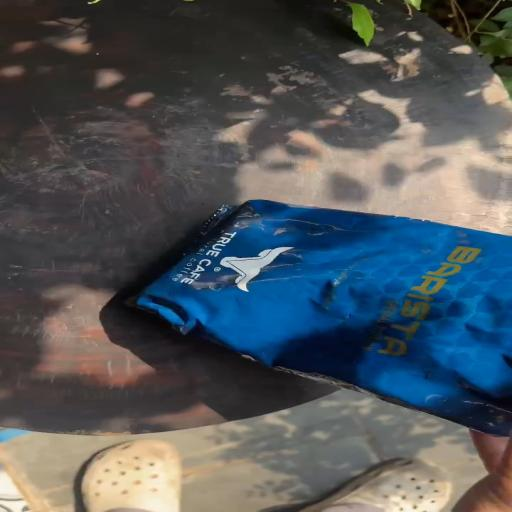cafe_hat: (135, 200, 511, 435)
